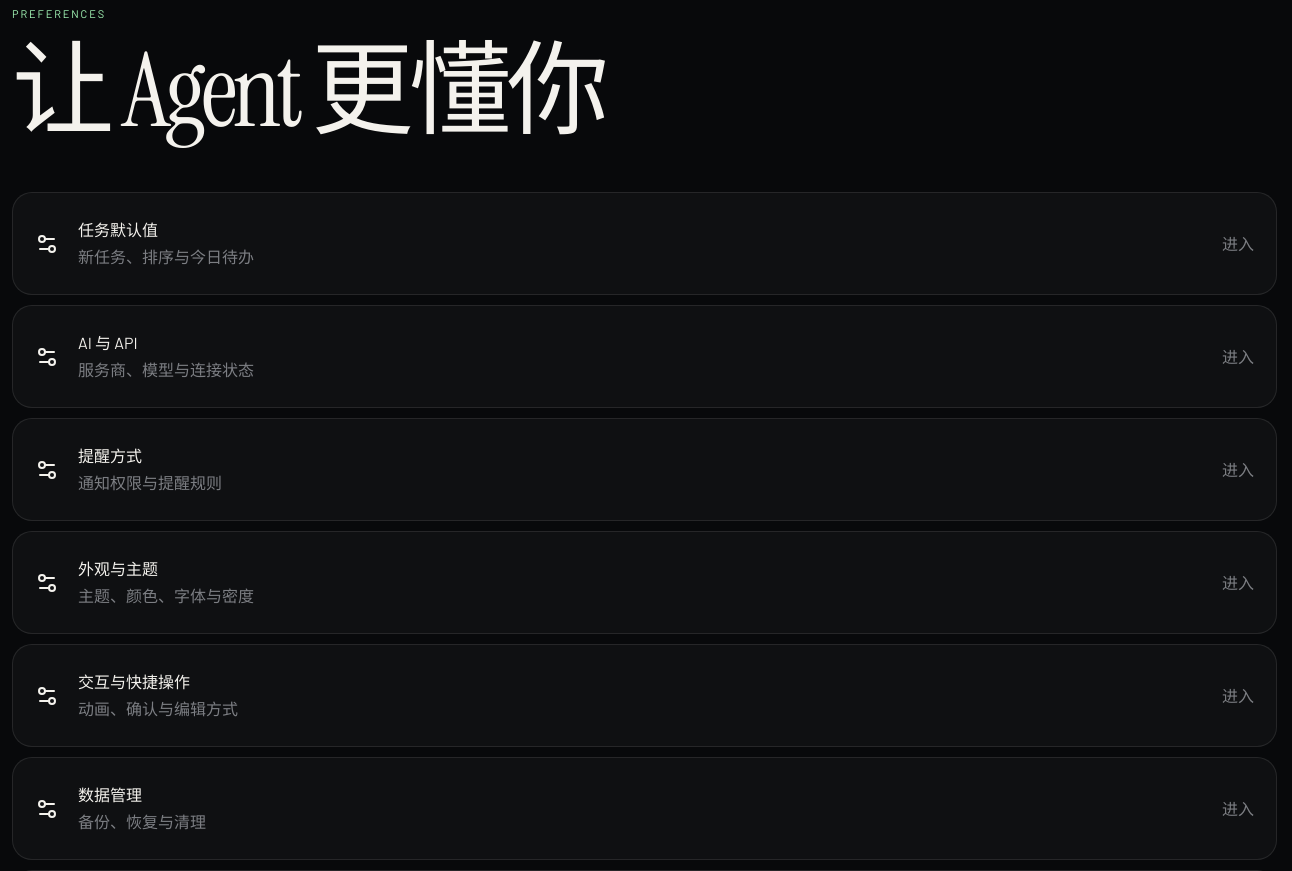
Test case: settings center › opens and returns from 任务默认值
The width and height of the screenshot is (1292, 871).
Click the button "任务默认值 新任务、排序与今日待办 进入". click: (118, 230)
box: left=12, top=192, right=1277, bottom=295
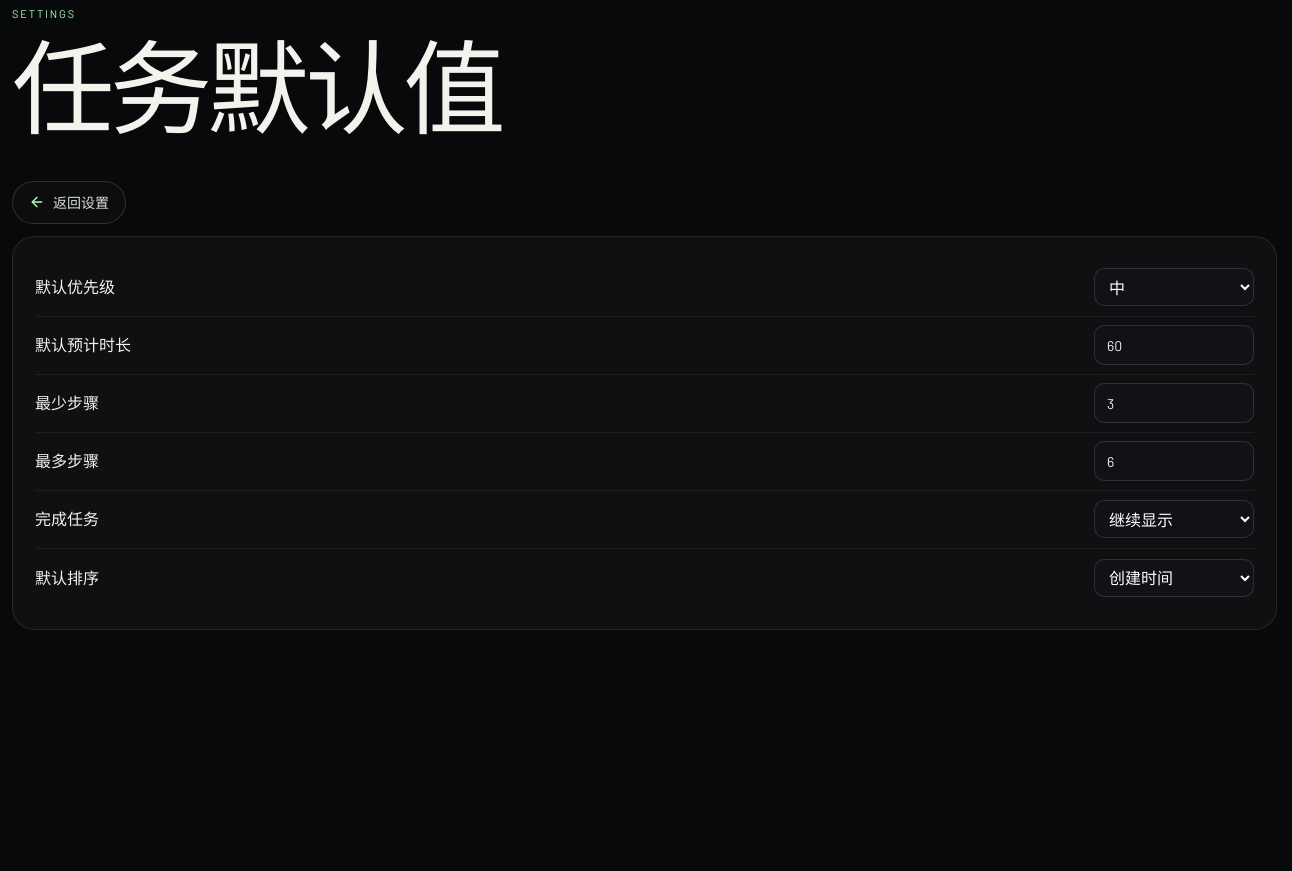
Expected: the heading "任务默认值" is shown, left=12, top=25, right=501, bottom=158
Click the button "返回设置". click: (69, 202)
box: left=12, top=181, right=126, bottom=224
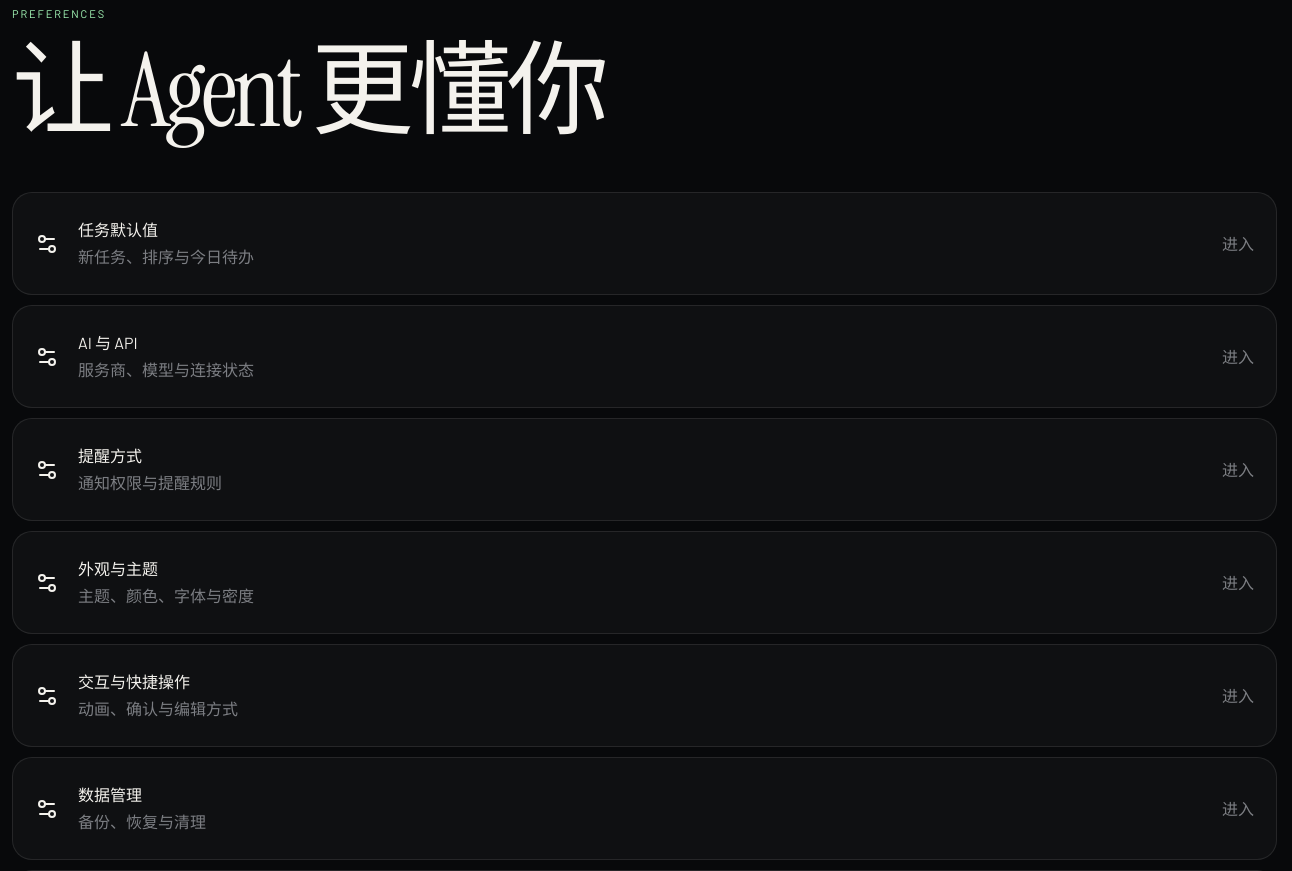
Expected: the button "任务默认值 新任务、排序与今日待办 进入" is shown, left=12, top=192, right=1277, bottom=295
